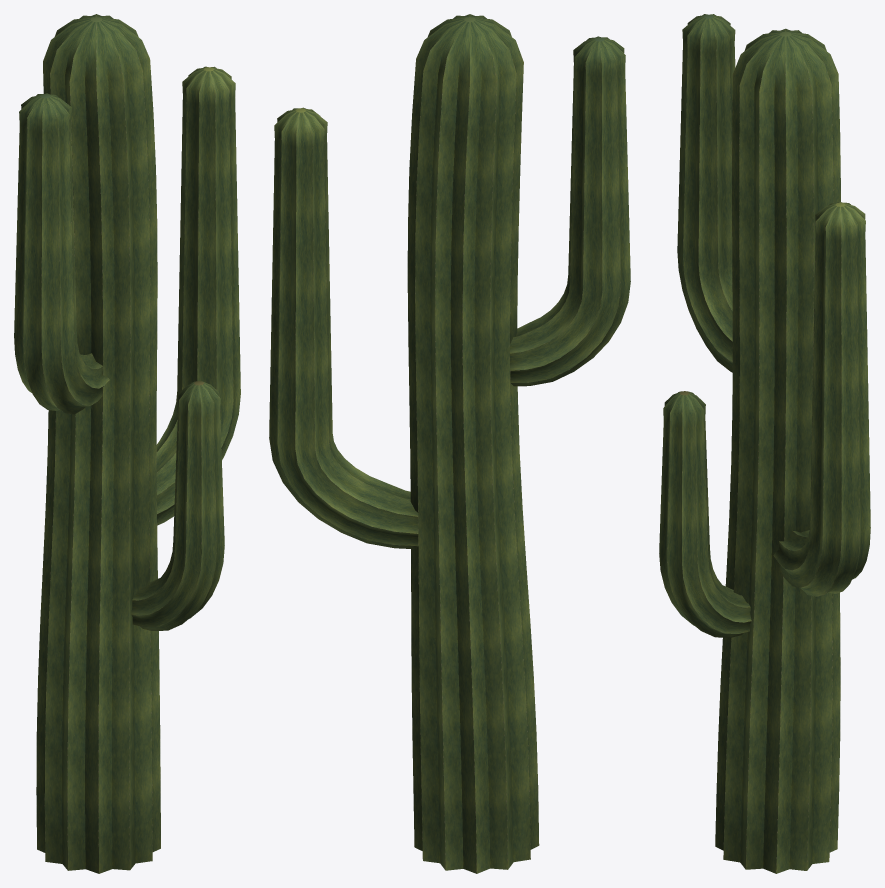
Rendered from cactus_saguaro.glb.
The picture shows the model from 3 angles, left to right: view 1: azimuth 30°, elevation 25°; view 2: azimuth 150°, elevation 25°; view 3: azimuth 270°, elevation 25°; orthographic projection.
Visible parts, largest first — view 1: cactus_saguaro; view 2: cactus_saguaro; view 3: cactus_saguaro.
Part boxes in pixels (left/top/right/bottom): cactus_saguaro: left=14, top=14, right=240, bottom=873; cactus_saguaro: left=269, top=14, right=630, bottom=873; cactus_saguaro: left=659, top=14, right=870, bottom=873.
Bounding box in the file's own units: 1.9 × 5.29 × 1.24.
1 material, 1 textured.
